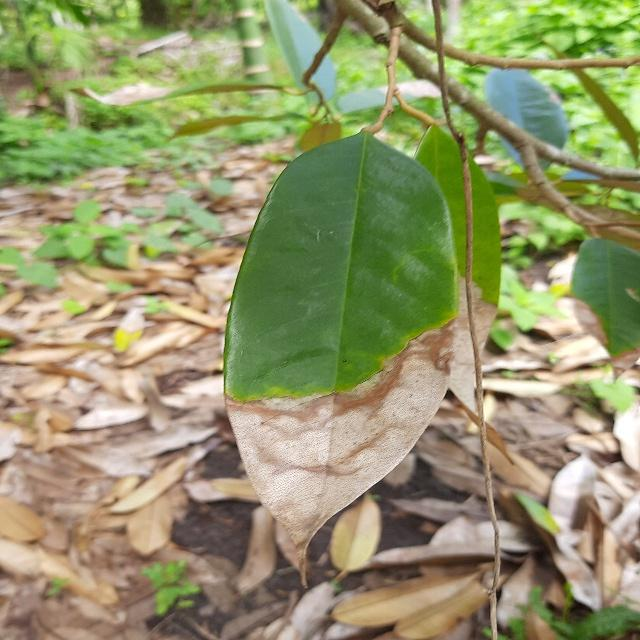Leaf Blight: (219, 117, 509, 595)
